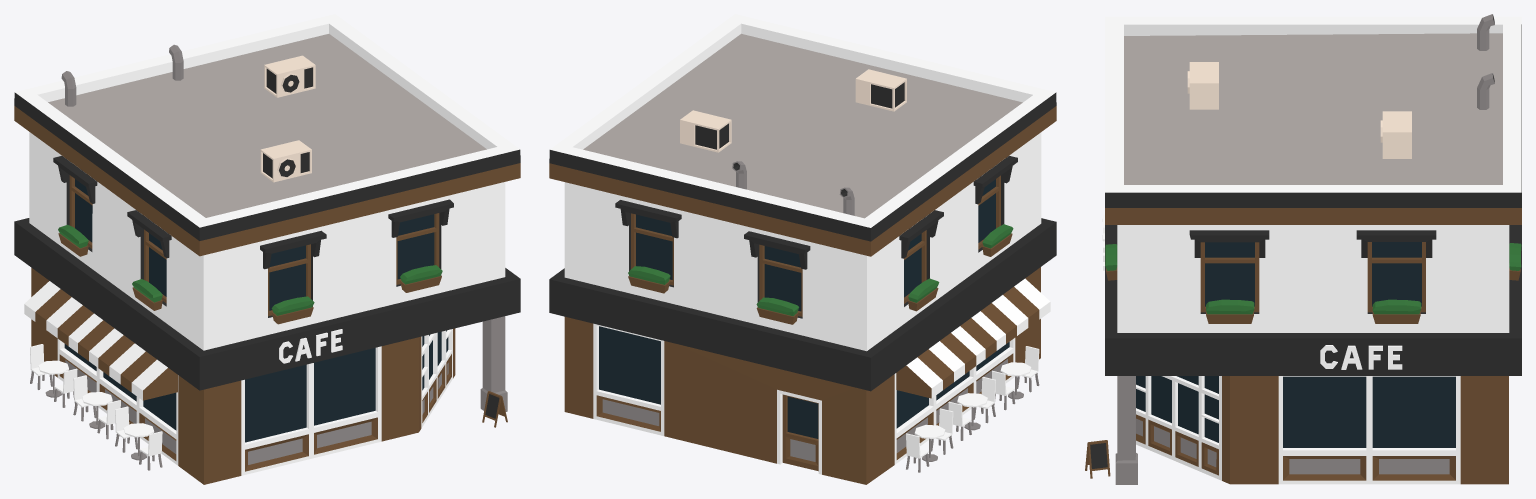
File: building-cafe.glb
The picture shows the model from 3 angles, left to right: view 1: azimuth 30°, elevation 25°; view 2: azimuth 150°, elevation 25°; view 3: azimuth 270°, elevation 25°; orthographic projection. The views are drawn at different scales.
Parts seen in each view (by area): view 1: building-cafe; view 2: building-cafe; view 3: building-cafe.
Boxes of the visible parts, x1=… form: building-cafe: x1=14, y1=14, x2=520, y2=484; building-cafe: x1=549, y1=14, x2=1056, y2=484; building-cafe: x1=1085, y1=14, x2=1521, y2=484.
Bounding box in the file's own units: 10.85 × 8.49 × 10.48.
1 material, 1 textured.
